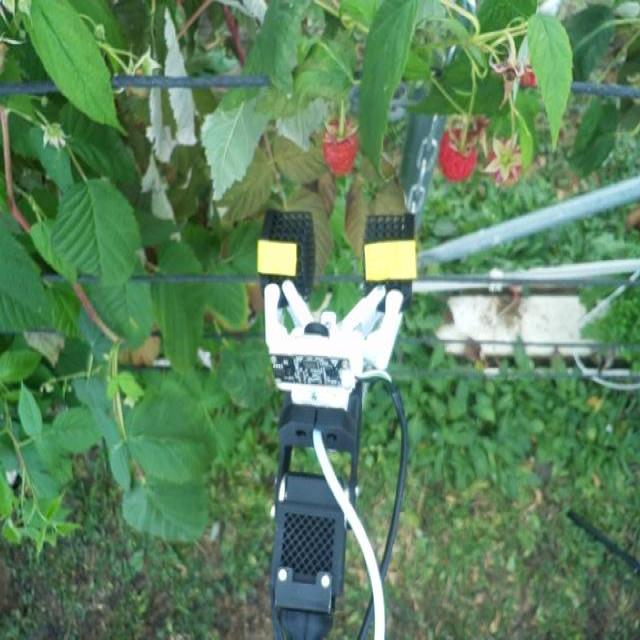Riped berries: (319, 112, 359, 177), (486, 130, 530, 183), (442, 124, 478, 180)
